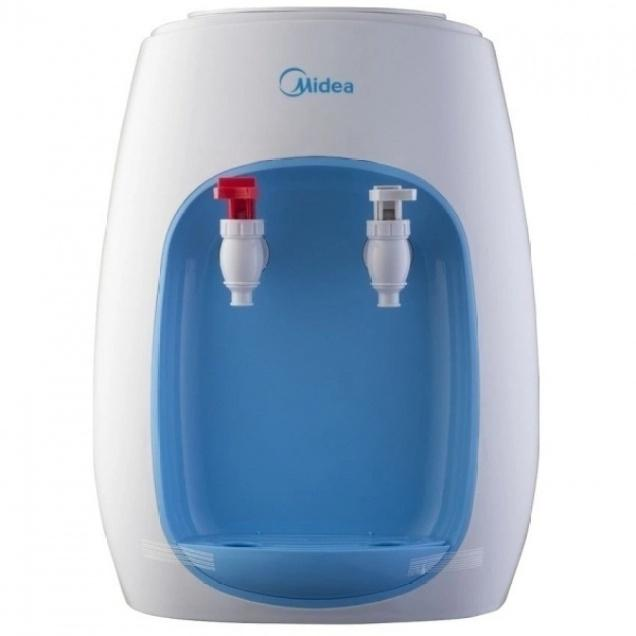Dispenser: (90, 7, 539, 625)
